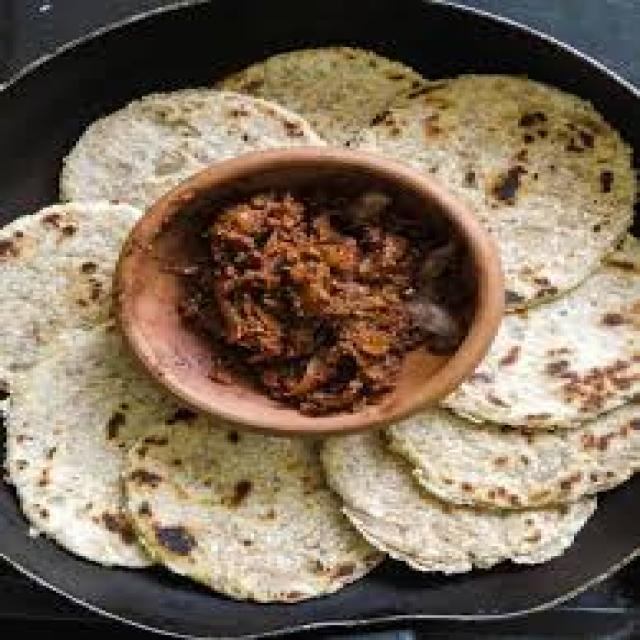ROTI: (221, 47, 630, 306), (129, 418, 376, 600), (323, 432, 594, 568), (7, 329, 148, 563), (63, 89, 323, 208), (442, 267, 637, 425), (0, 203, 139, 393), (389, 400, 637, 504)
